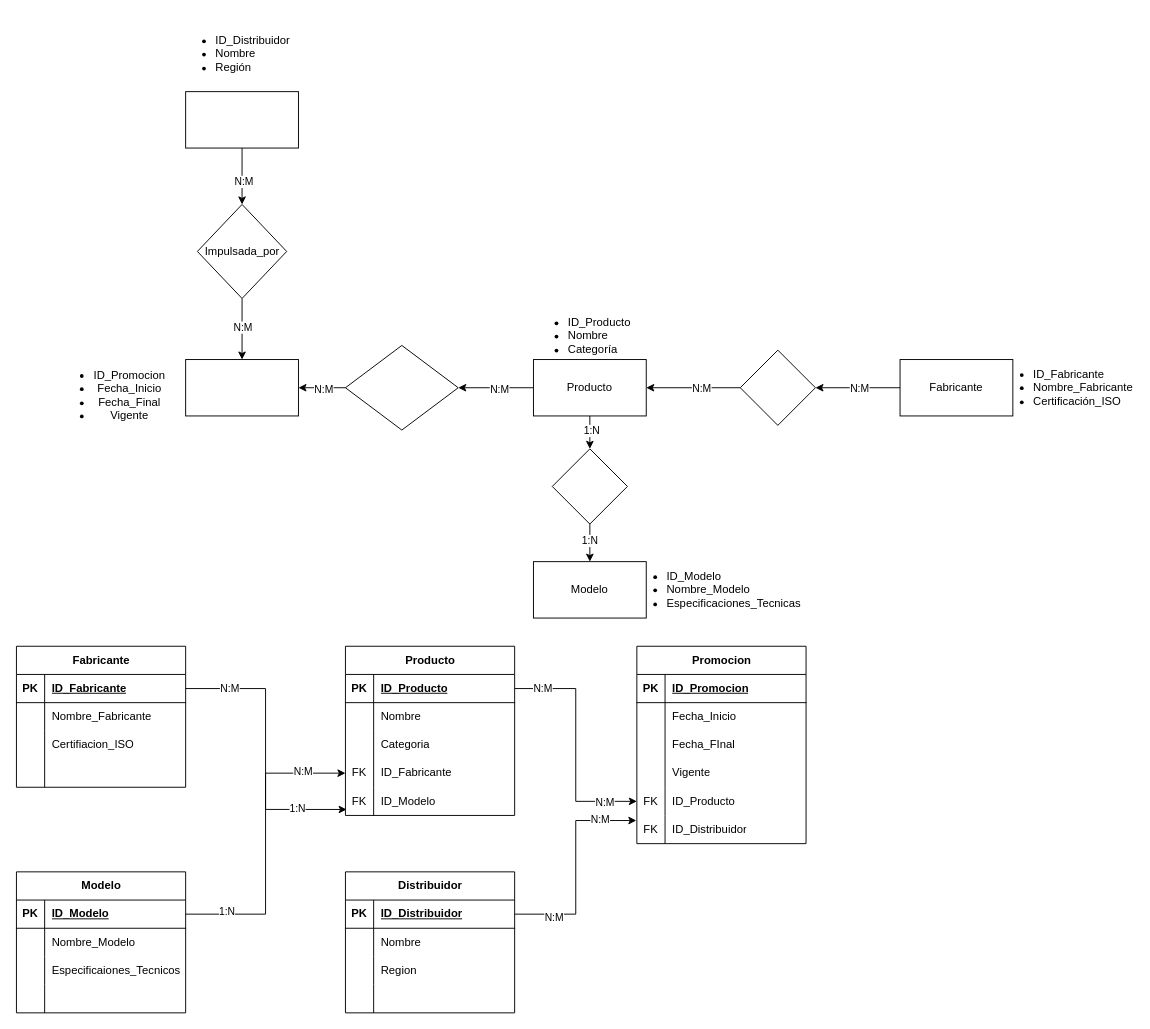
Some shapes in this 1150 by 1029 pixel diagram are drawn without their labels. The centre of each missing label's shape, as x and y in pixels:
"Distribudor" belongs at (241,119).
"Ensamblan" belongs at (777,387).
"Promoción" belongs at (241,387).
"Puede_estar_en" belongs at (401,387).
"Tienen" belongs at (589,486).
